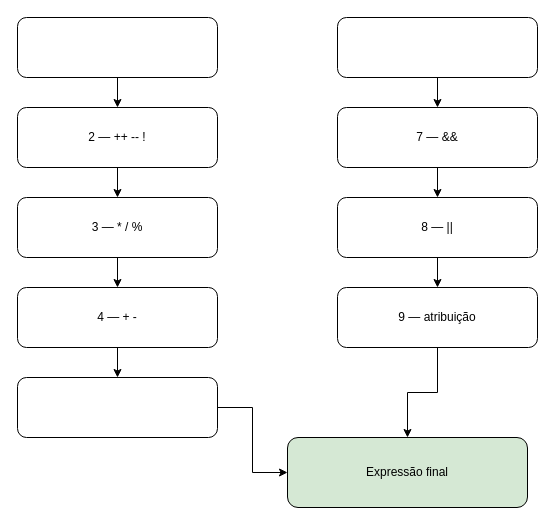
Some shapes in this 555 by 525 pixel diagram are drawn without their labels. The shapes that lost their labels are listed below. From the top down, each one's centre as x and y in pixels, then its label:
At point 117,47: "1 — Parênteses ()".
At point 437,47: "6 — igualdade".
At point 117,407: "5 — relacionais".
